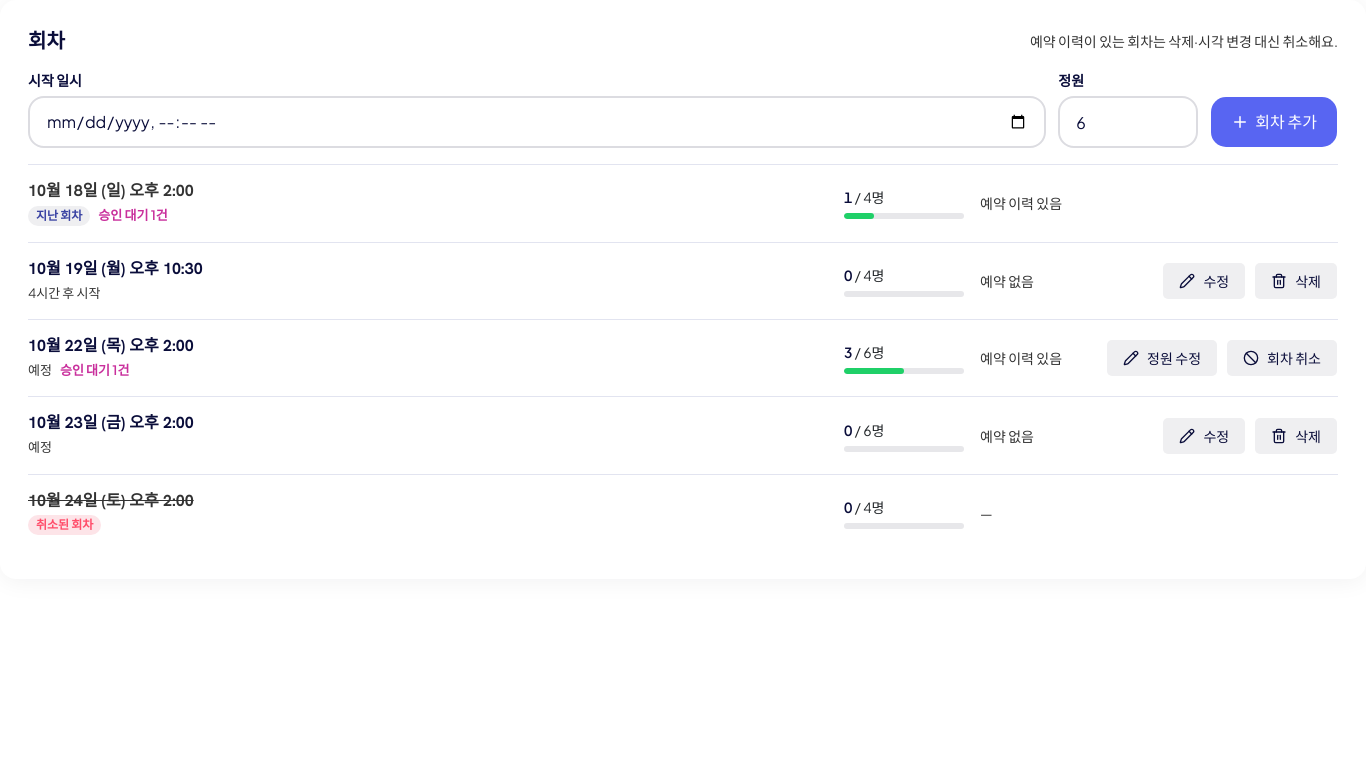
Test case: 회차 추가 › R-46: 과거·현재·빈 시작 시각 2026-10-18T14:00는 필드 오류로 막는다
Expected: the table named "회차 목록" is shown, top-left (28, 164), bottom-right (1338, 552)
Type "2026-10-18T14:00" into the field labelled "시작 일시" at (537, 122), box top-left (28, 96), bottom-right (1046, 148)
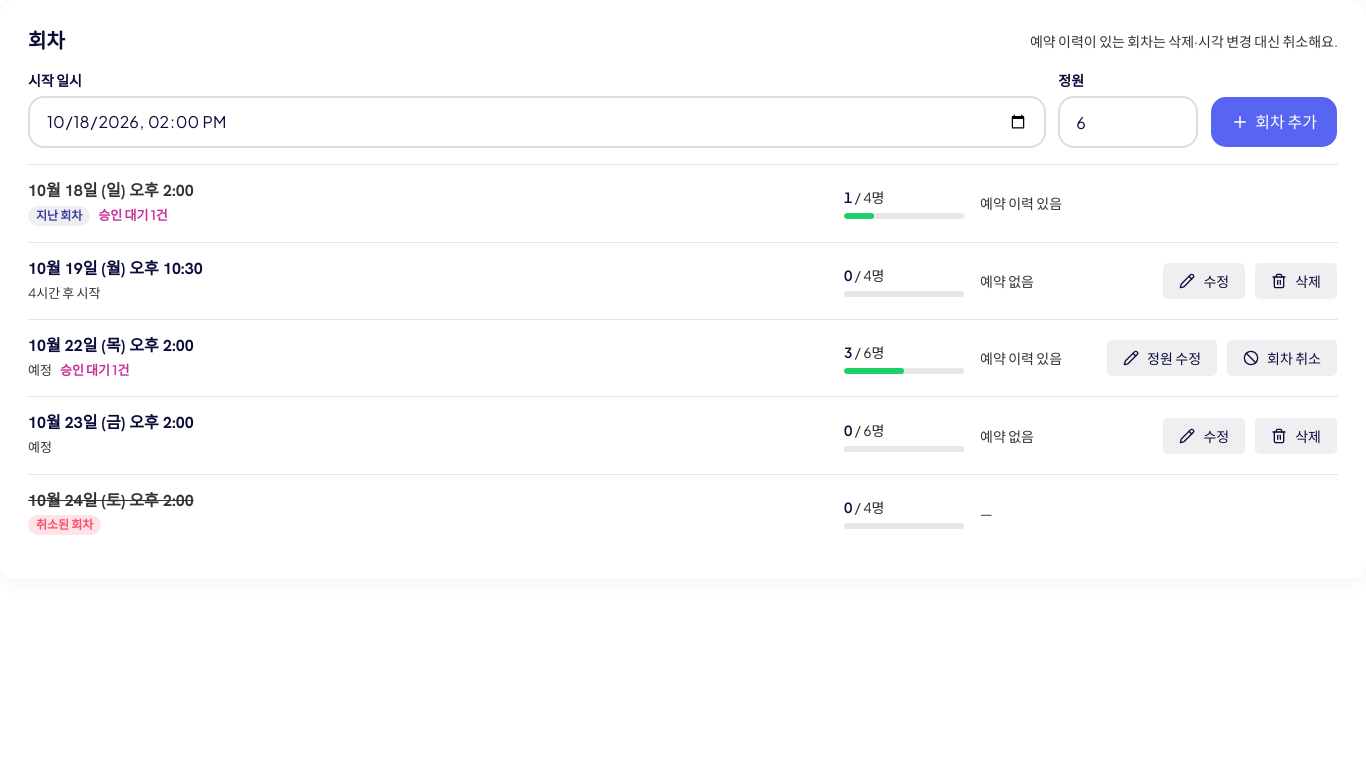
Replace the text in the field labelled "정원" with "8" at (1128, 122), box top-left (1058, 96), bottom-right (1198, 148)
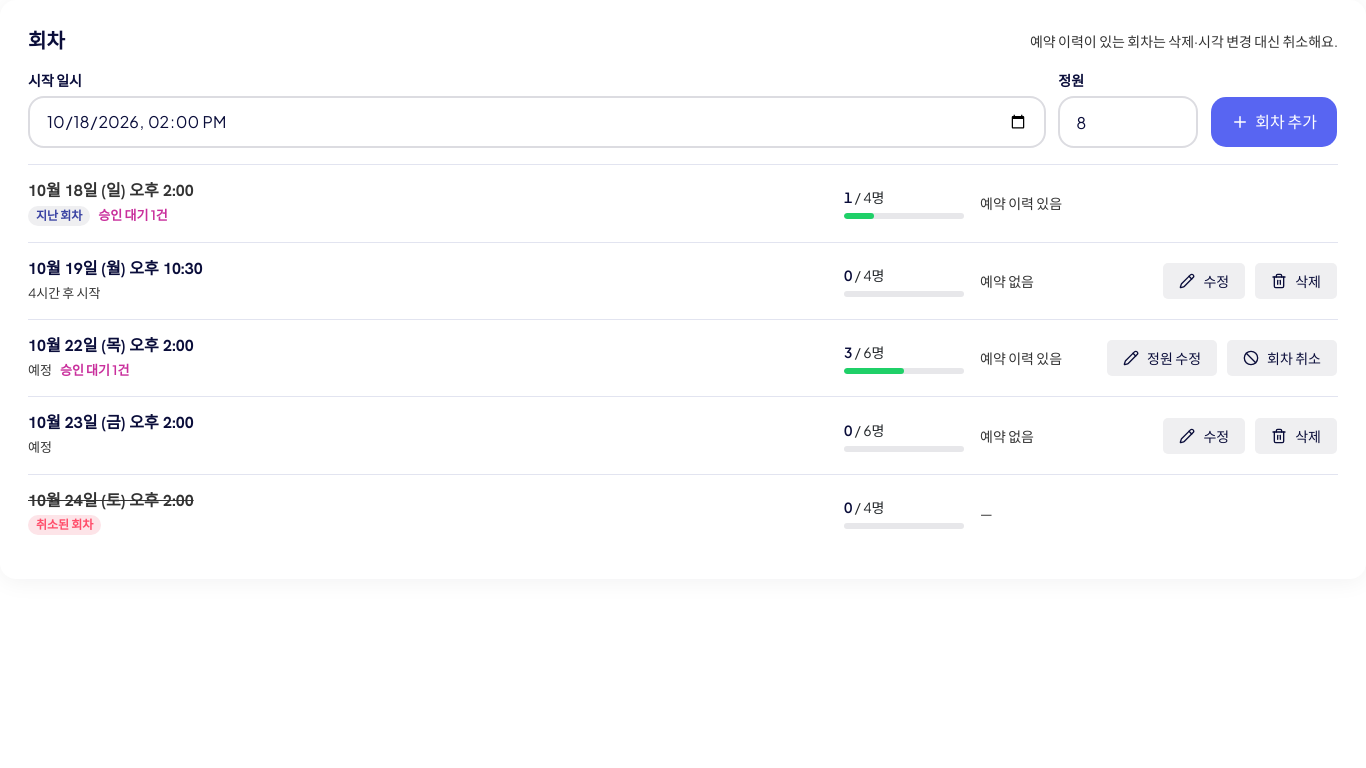
Click the button "회차 추가" at (1274, 122), box top-left (1210, 96), bottom-right (1338, 148)
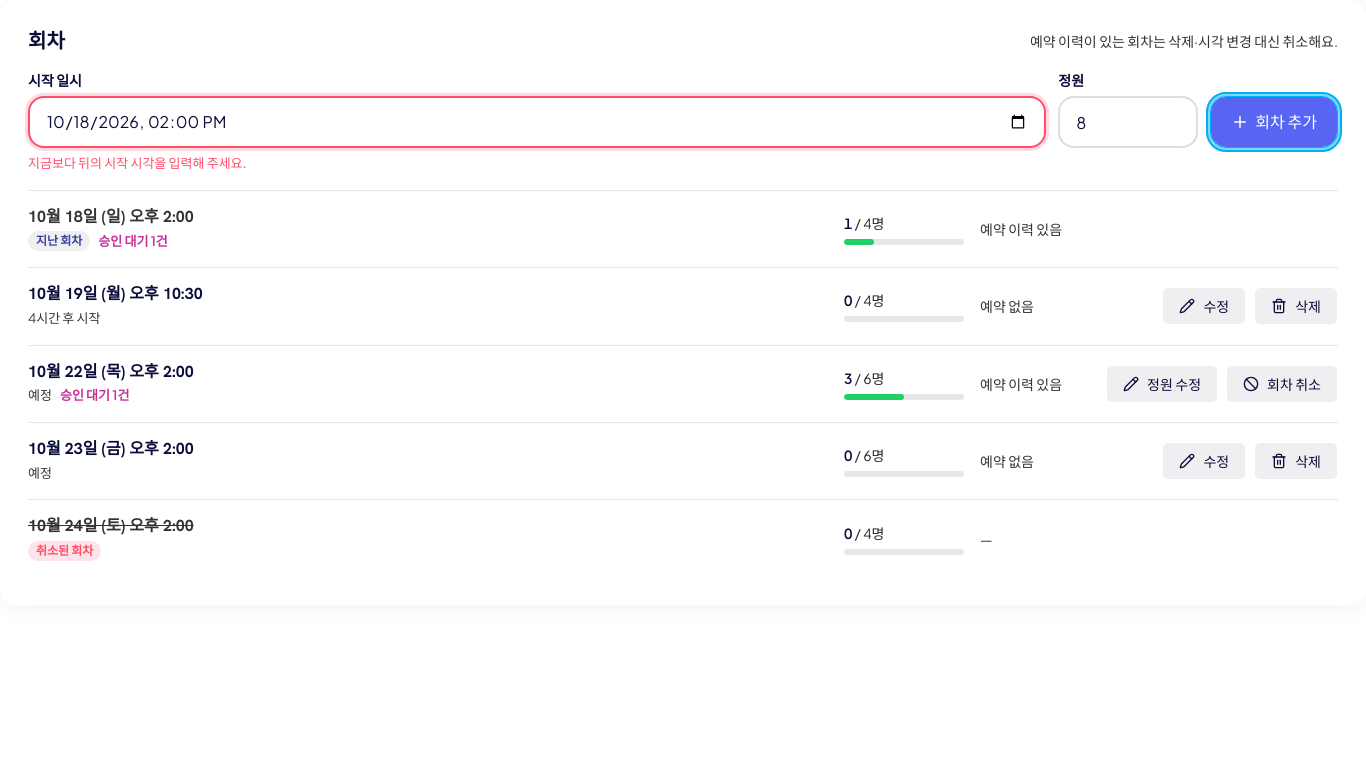
Result: the message reads "지금보다 뒤의 시작 시각을 입력해 주세요." at top-left (28, 155), bottom-right (247, 171)
